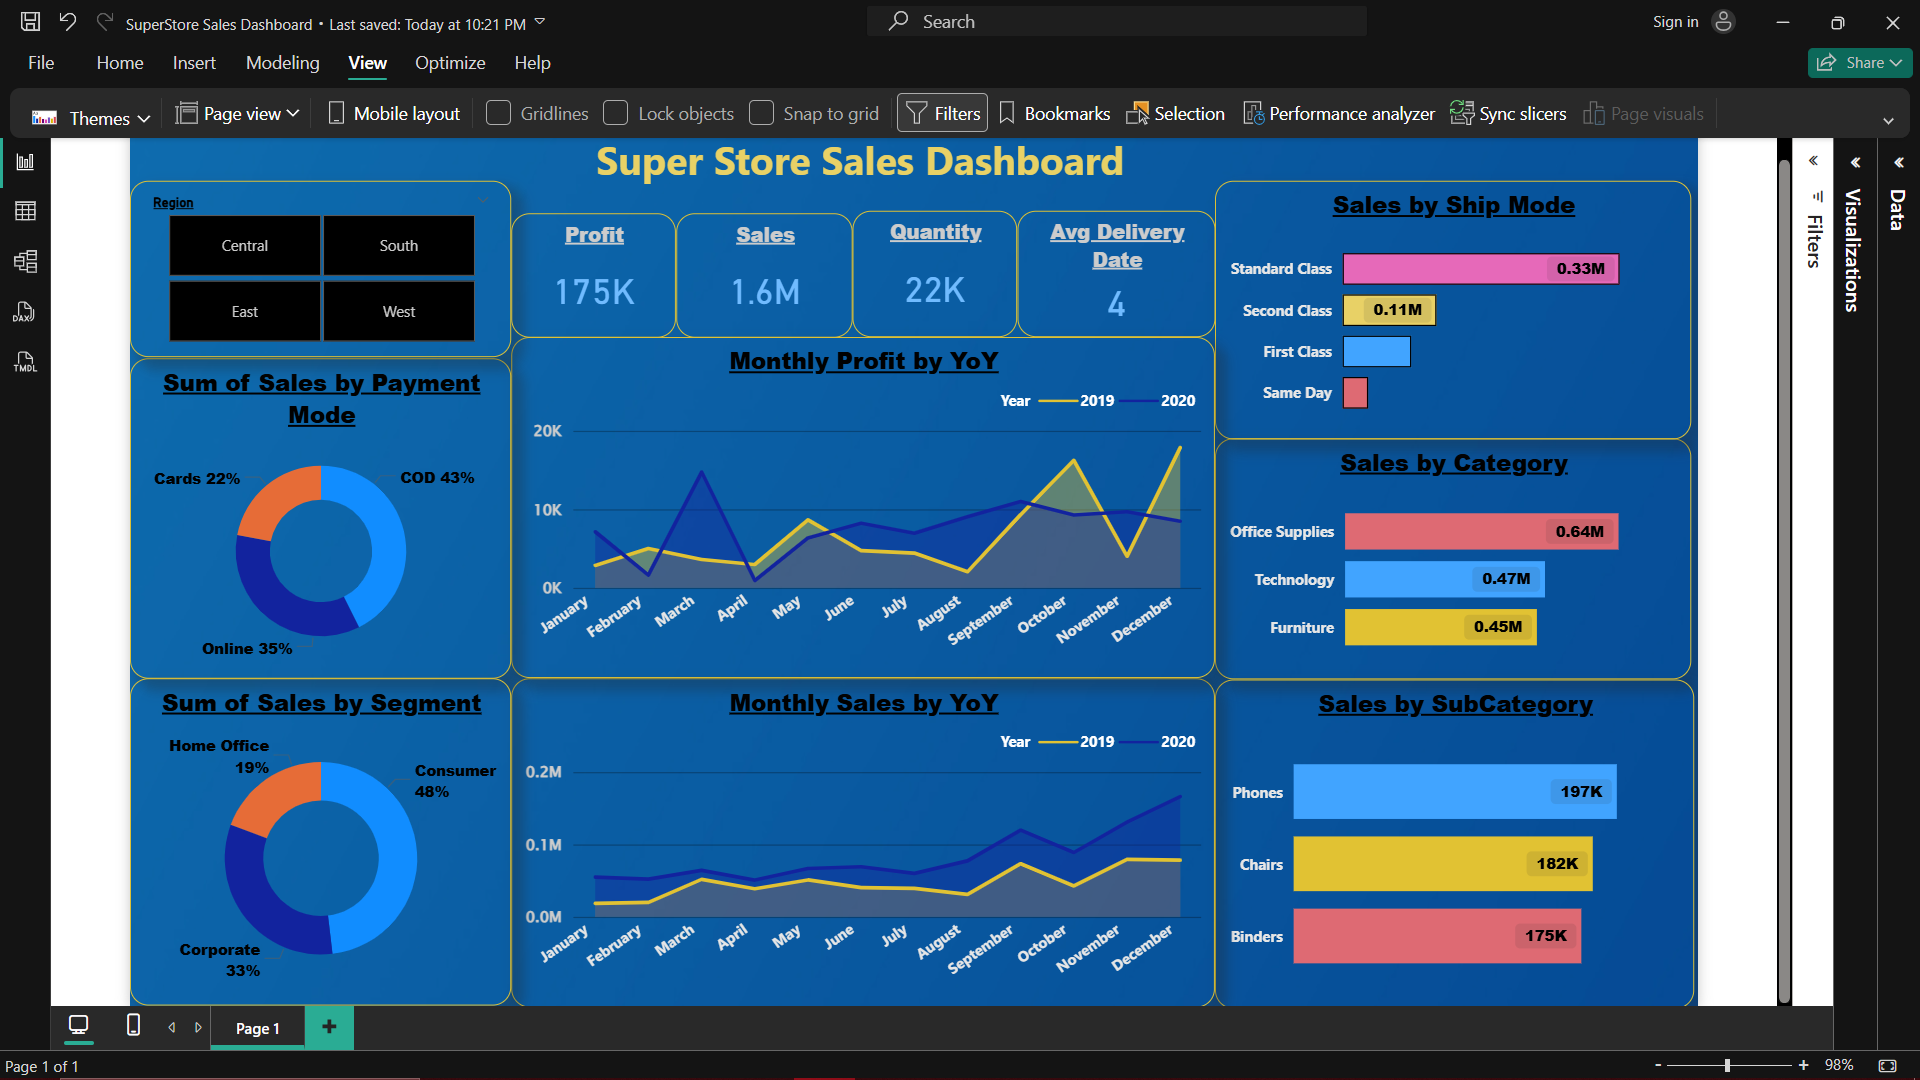

This screenshot's page, from the dashboard's own definition file:
{"tool":"powerbi","page":{"name":"Page 1","canvas":[1280,720],"ordinal":0},"visuals":[{"type":"clusteredBarChart","title":"Sales by Category","fields":{"Y":["Sum(Sheet1.Sales)"],"Category":["Sheet1.Category"]},"box":[885.7,254.3,388.6,197.1],"z":0},{"type":"clusteredBarChart","title":"Sales by SubCategory","fields":{"Y":["Sum(Sheet1.Sales)"],"Category":["Sheet1.Sub-Category"]},"box":[885.7,451.4,391.4,268.6],"z":1000},{"type":"clusteredBarChart","title":"Sales by Ship Mode","fields":{"Y":["Sum(Sheet1.Sales)"],"Category":["Sheet1.Ship Mode"]},"box":[885.7,44.3,388.6,211.4],"z":2000},{"type":"areaChart","title":"Monthly Sales by YoY","fields":{"Y":["Sum(Sheet1.Sales)"],"Category":["Sheet1.Order Date.Variation.Date Hierarchy.Month","Sheet1.Order Date.Variation.Date Hierarchy.Day"],"Series":["Sheet1.Order Date.Variation.Date Hierarchy.Year"]},"box":[311.4,450,574.3,268.6],"z":3000},{"type":"areaChart","title":"Monthly Profit by YoY","fields":{"Category":["Sheet1.Order Date.Variation.Date Hierarchy.Month","Sheet1.Order Date.Variation.Date Hierarchy.Day"],"Series":["Sheet1.Order Date.Variation.Date Hierarchy.Year"],"Y":["Sum(Sheet1.Profit)"]},"box":[311.4,171.4,574.3,278.6],"z":4000},{"type":"donutChart","fields":{"Y":["Sum(Sheet1.Sales)"],"Category":["Sheet1.Payment Mode"]},"box":[0,188.6,311.4,261.4],"z":5000},{"type":"donutChart","fields":{"Y":["Sum(Sheet1.Sales)"],"Category":["Sheet1.Segment"]},"box":[0,450,311.4,267.1],"z":6000},{"type":"slicer","fields":{"Values":["Sheet1.Region"]},"box":[0,44.3,311.4,144.3],"z":7000},{"type":"textbox","box":[347.1,0,498.6,61.4],"z":8000},{"type":"card","title":"Sales","fields":{"Values":["Sum(Sheet1.Sales)"]},"box":[445.7,70,144.3,101.4],"z":9000},{"type":"card","title":"Profit","fields":{"Values":["Sum(Sheet1.Profit)"]},"box":[311.4,70,134.3,101.4],"z":10000},{"type":"card","title":"Quantity","fields":{"Values":["Sum(Sheet1.Quantity)"]},"box":[590,68.6,134.3,102.9],"z":10001},{"type":"card","title":"Avg Delivery Date","fields":{"Values":["Avg(SuperStore_sales.Avg Delivery Days)"]},"box":[724.3,68.6,161.4,102.9],"z":10002}]}

Visuals, with their boxes on the page's 1280x720 design canvas (x1, y1, x2, y2). These are canvas units, not pixel positions in the 1920x1080 screenshot, which may show the page scaled, cropped or inside an application window:
"Sales by Category" clusteredBarChart: (left=886, top=254, right=1274, bottom=451)
"Sales by SubCategory" clusteredBarChart: (left=886, top=451, right=1277, bottom=720)
"Sales by Ship Mode" clusteredBarChart: (left=886, top=44, right=1274, bottom=256)
"Monthly Sales by YoY" areaChart: (left=311, top=450, right=886, bottom=719)
"Monthly Profit by YoY" areaChart: (left=311, top=171, right=886, bottom=450)
donutChart - Sum(Sheet1.Sales) x Sheet1.Payment Mode: (left=0, top=189, right=311, bottom=450)
donutChart - Sum(Sheet1.Sales) x Sheet1.Segment: (left=0, top=450, right=311, bottom=717)
slicer - Sheet1.Region: (left=0, top=44, right=311, bottom=189)
textbox: (left=347, top=0, right=846, bottom=61)
"Sales" card: (left=446, top=70, right=590, bottom=171)
"Profit" card: (left=311, top=70, right=446, bottom=171)
"Quantity" card: (left=590, top=69, right=724, bottom=172)
"Avg Delivery Date" card: (left=724, top=69, right=886, bottom=172)
